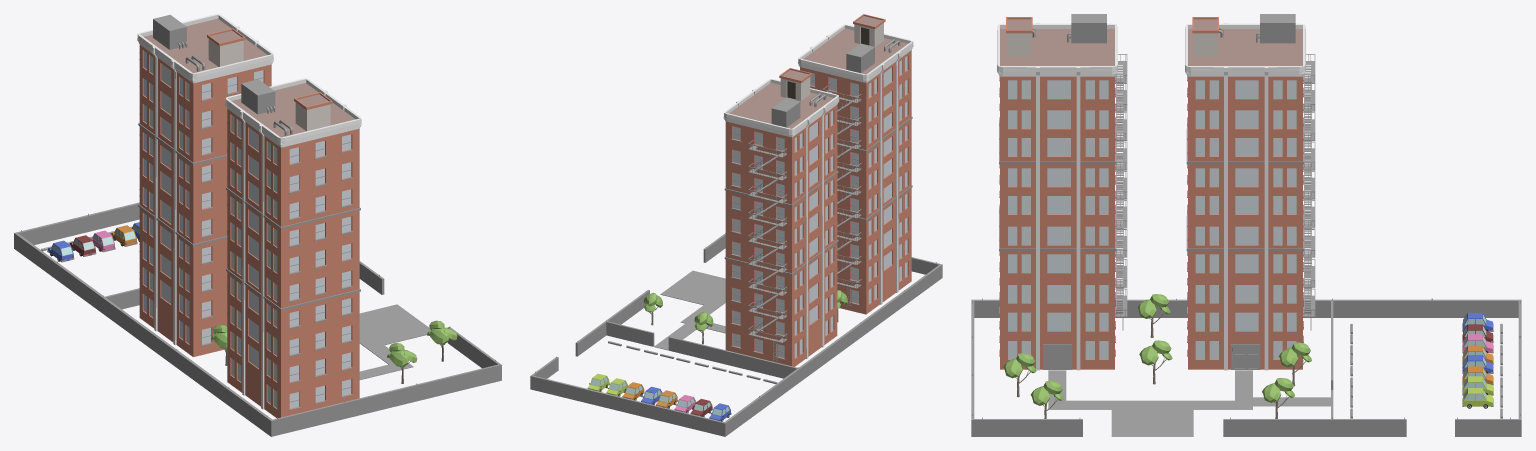
Rendered from gemelas.fbx.
3 views of the same model, side by side, from view 1: azimuth 30°, elevation 25°; view 2: azimuth 150°, elevation 25°; view 3: azimuth 270°, elevation 25° (orthographic). The views are drawn at different scales.
Visible parts, largest first — view 1: pCube1554, pCube2054, pCube1646, pCube1651, pCube2070, pCube1752, pCylinder260, pCylinder259, polySurface157, polySurface228; view 2: pCube2054, pCube1554, pCube1646, pCube1618, pCube1651, pCube1530, pCube1752, pCube2070, pCylinder259, pCylinder260; view 3: pCube1554, pCube2054, pCube1646, pCube1651, pCube1530, pCube1618, pCylinder260, pCylinder259, pCube1752, pCube2070, pCube1552, pCube1640 (+11 smaller).
Part boxes in pixels (x1,y1,x2,y2): pCube1554: (225,78,361,417); pCube2054: (137,14,273,356); pCube1646: (14,202,501,436); pCube1651: (359,304,430,379); pCube2070: (294,92,332,131); pCube1752: (207,28,245,66); pCylinder260: (241,79,275,114); pCylinder259: (153,14,187,49); polySurface157: (427,320,457,344); polySurface228: (387,343,417,367); pCube2054: (723,79,839,366); pCube1554: (798,24,913,314); pCube1646: (530,233,942,436); pCube1618: (748,140,787,361); pCube1651: (654,270,725,350); pCube1530: (822,85,861,307); pCube1752: (779,68,811,101); pCube2070: (853,14,885,46); pCylinder259: (771,98,800,127); pCylinder260: (846,43,874,73); pCube1554: (997,23,1117,370); pCube2054: (1185,23,1305,370); pCube1646: (971,299,1521,436); pCube1651: (1048,370,1330,436); pCube1530: (1115,54,1127,330); pCube1618: (1303,54,1315,330); pCylinder260: (1067,14,1106,43); pCylinder259: (1256,14,1295,43); pCube1752: (1192,17,1218,56); pCube2070: (1006,17,1032,56); pCube1552: (1043,344,1072,369); pCube1640: (1231,344,1260,369).
Bounding box in the file's own units: 104 × 131 × 200.
